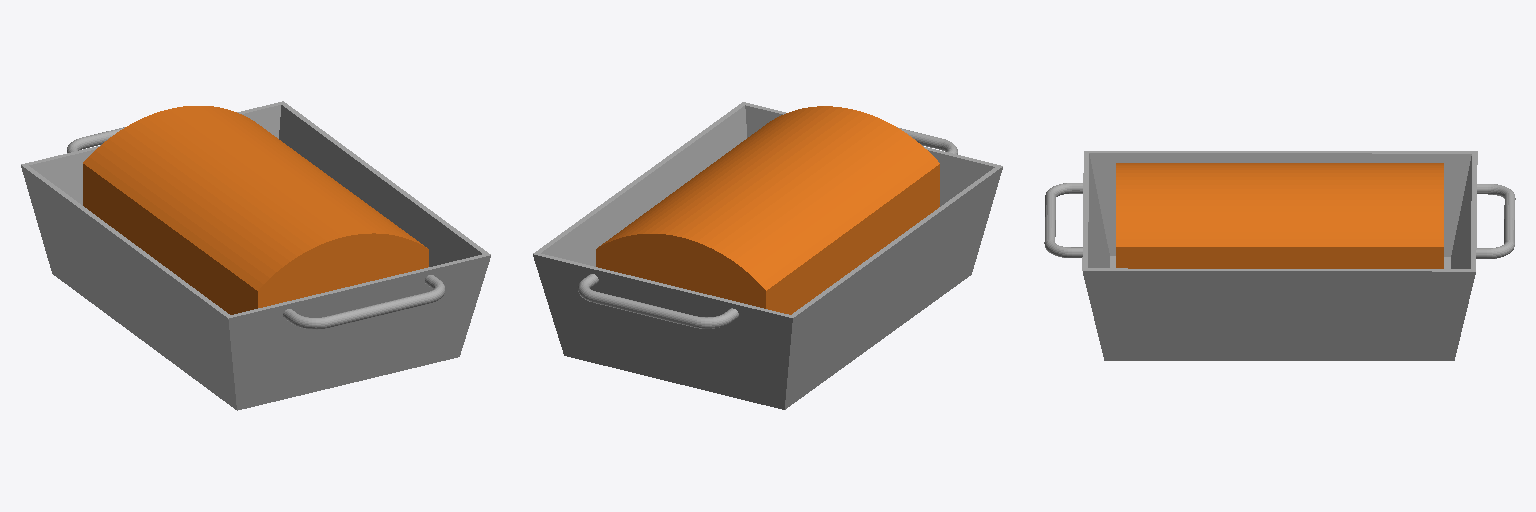
The robot description file, URDF, robot "baking_pan.obj":
<?xml version="1.0" ?>
<robot name="baking_pan.obj">
	<material name="LightGrey"><color rgba="0.7 0.7 0.7 1.0"/></material>
	<material name="bread"><color rgba="0.9 0.5 0.16 1.0"/></material>
	<link name="bread">
		<visual>
			<origin xyz="0.0 0.0 0.0" rpy="0 0 0" />
			<geometry>
				<mesh filename="bread.obj" scale="0.001 0.001 0.001" />
			</geometry>
			<material name="bread"/>
		</visual>
		<collision>
			<geometry>
				<mesh filename="bread.obj" scale="0.001 0.001 0.001" />
			</geometry>
		<origin xyz="0.0 0.0 0.0" rpy="0 0 0" /></collision>
		<inertial>
			<mass value="0.05" />
			<inertia ixx="0.1" ixy="0.0" ixz="0.0" iyy="0.1" iyz="-0.0" izz="0.03" />
		</inertial>
	</link>
	<link name="pan">
		<visual>
			<origin xyz="0.0 0.0 -0.0035363602763077294" rpy="0 0 0" />
			<geometry>
				<mesh filename="baking_pan.obj" scale="0.001 0.001 0.001" />
			</geometry>
			<material name="LightGrey"/>
		</visual>
		<collision>
			<geometry>
				<mesh filename="baking_pan_vhacd.obj" scale="0.001 0.001 0.001" />
			</geometry>
		<origin xyz="0.0 0.0 -0.0035363602763077294" rpy="0 0 0" /></collision>
		<inertial>
			<mass value="0.3" />
			<inertia ixx="0.6" ixy="0.0" ixz="0.0" iyy="0.5" iyz="-0.0" izz="0.08" />
		</inertial>
	</link>
	<joint name="joint_1" type="fixed">
		<origin rpy="0.0 0.0 -0.005" xyz="0 0 0"/>
		<child link="pan"/>
		<parent link="bread"/>
	</joint>
</robot>

--- Render facts (derived) ---
3 views of the same robot in one strip: view 1: azimuth 30°, elevation 25°; view 2: azimuth 150°, elevation 25°; view 3: azimuth 270°, elevation 25° (orthographic).
Robot: baking_pan.obj — 2 links, 1 joints (1 fixed); root link bread; default pose: every joint at zero.
Links seen in each view (by area): view 1: pan, bread; view 2: pan, bread; view 3: pan, bread.
Boxes of the visible links, box(x1,y1,x2,y2) form: pan: box(21, 101, 490, 410); bread: box(83, 106, 428, 314); pan: box(533, 102, 1002, 409); bread: box(596, 106, 939, 314); pan: box(1044, 151, 1515, 360); bread: box(1116, 163, 1443, 268).
Size in the robot's own frame: 0.2618 by 0.4305 by 0.1348 metres.
2 mesh visuals loaded from 2 distinct referenced files (2 OBJ).